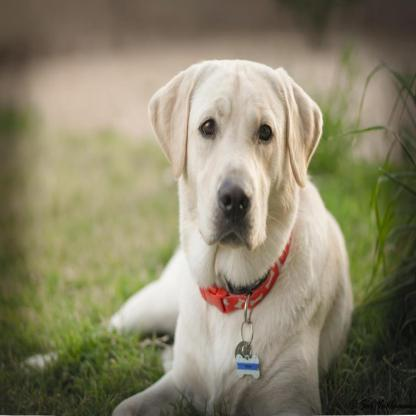Rotveler: (101, 58, 356, 416)
